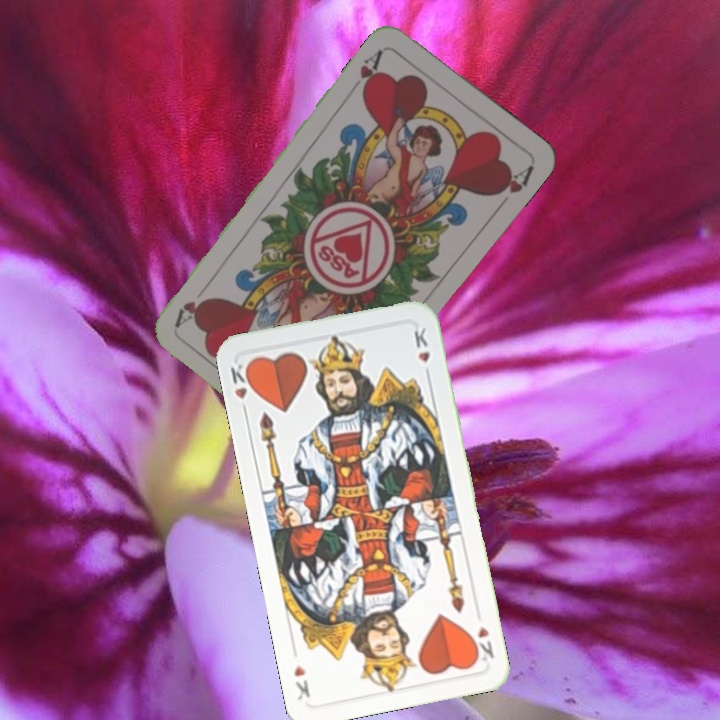HA: (346, 45, 386, 98)
HK: (226, 359, 257, 418), (467, 622, 497, 666)
